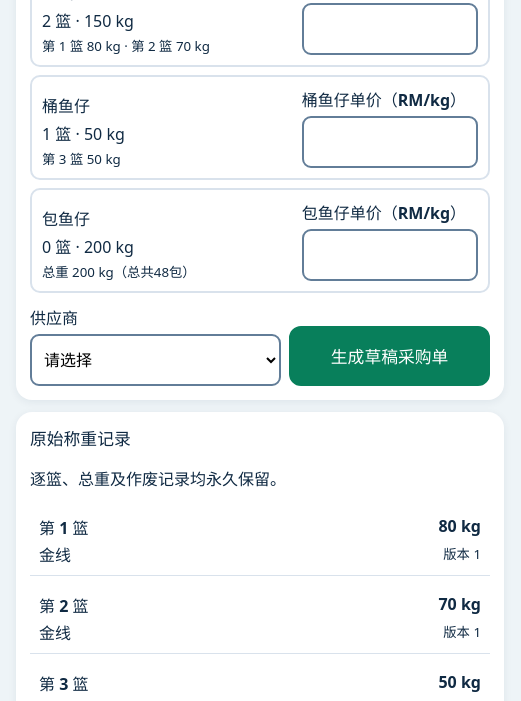
Scenario: 现场称重电脑端复核 › 桶鱼仔和包鱼仔可使用不同单价并只生成一张 Draft Purchase Receipt
(page scrolled)
Select "海洋供应商" in the dropdown named "Supplier": {"x": 156, "y": 360} top-left (30, 334), bottom-right (281, 386)
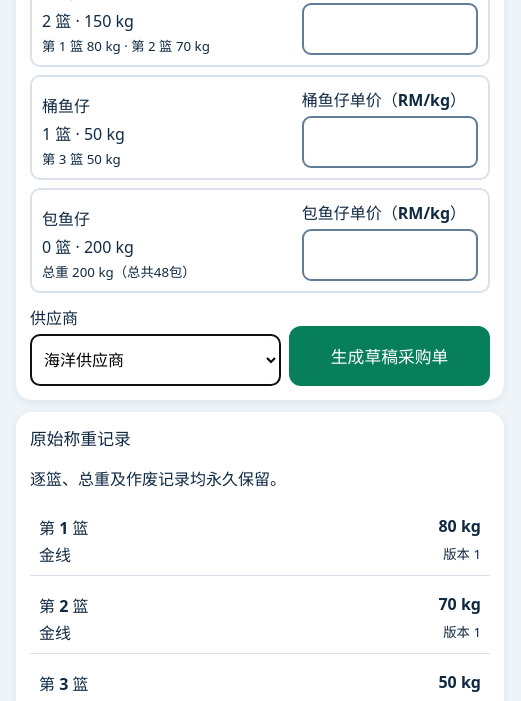
In the field labelled "金线单价（RM/kg）": {"x": 390, "y": 29} top-left (302, 3), bottom-right (478, 55), type "10"
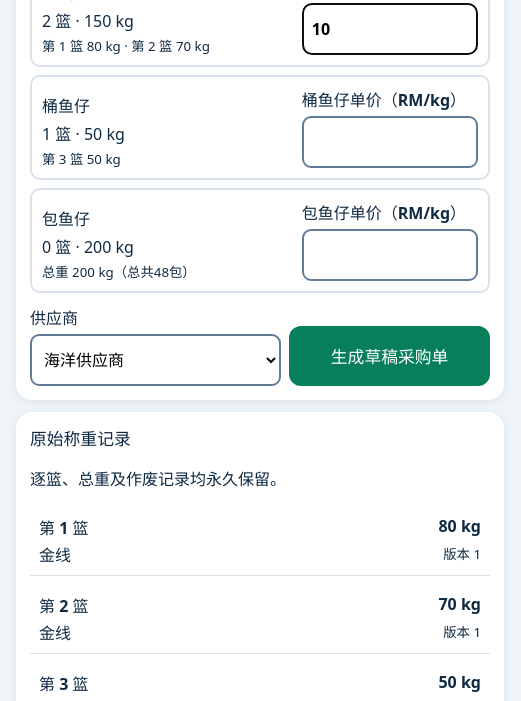
In the field labelled "桶鱼仔单价（RM/kg）": {"x": 390, "y": 142} top-left (302, 116), bottom-right (478, 168), type "2"
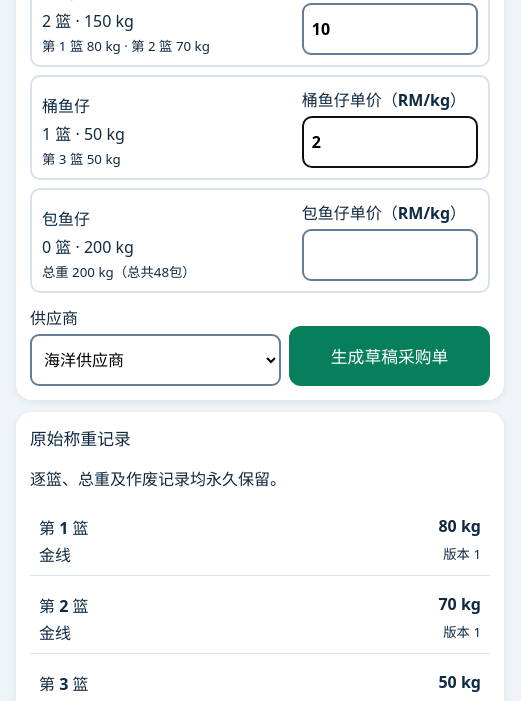
In the field labelled "包鱼仔单价（RM/kg）": {"x": 390, "y": 255} top-left (302, 229), bottom-right (478, 281), type "1.50"
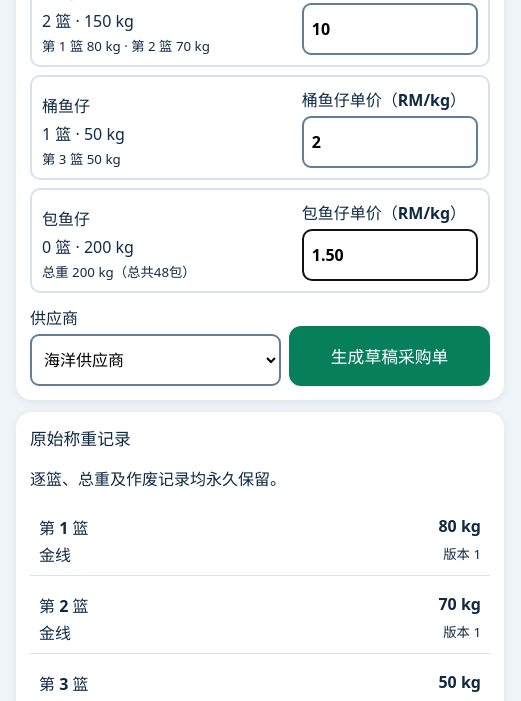
Click the button "生成草稿采购单": {"x": 390, "y": 356} top-left (289, 326), bottom-right (490, 386)
(page scrolled)
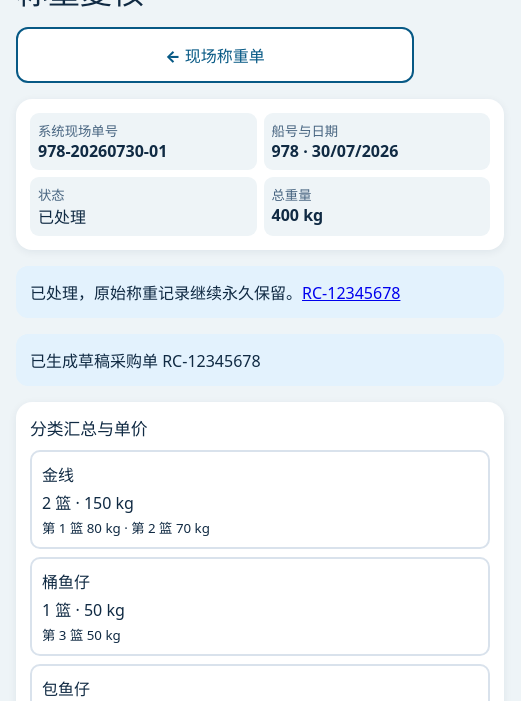
Check: the text "已生成草稿采购单 RC-12345678" is shown, box top-left (16, 334), bottom-right (504, 386)
